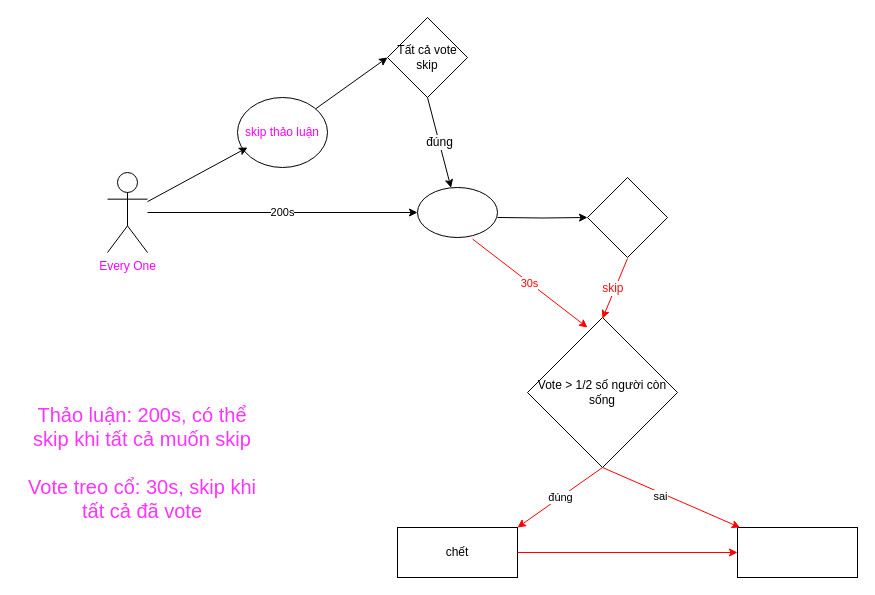
Some shapes in this 875 by 595 pixel diagram are drawn without their labels. Each missing label, with the box of its shape:
Tất cả đã vote: (586, 176, 668, 258)
Vote treo cổ: (416, 186, 498, 238)
về buổi tối: (736, 526, 858, 578)
